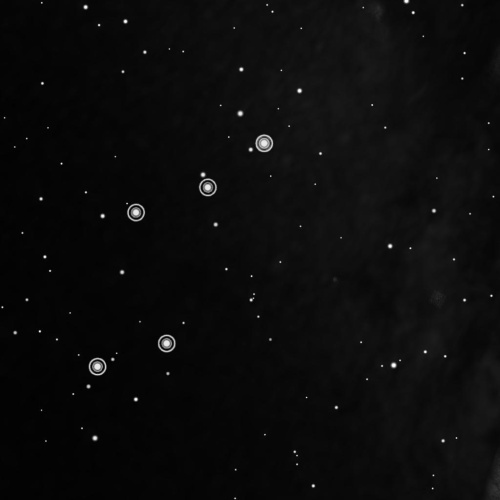lyra: (86, 130, 278, 379)
